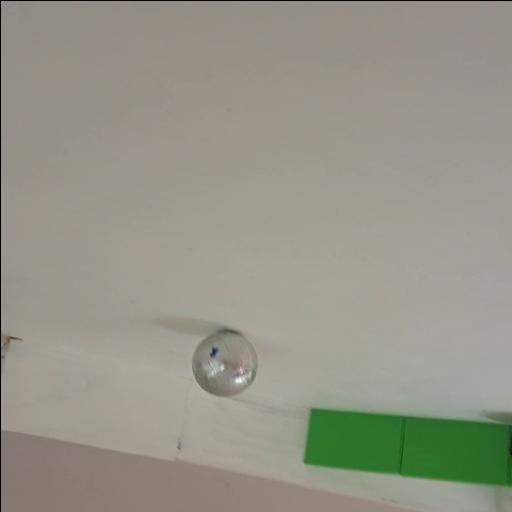alive: (188, 328, 260, 400)
